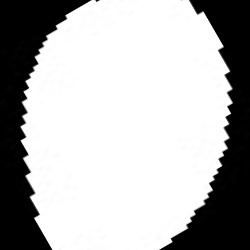spot: (20, 1, 234, 249)
